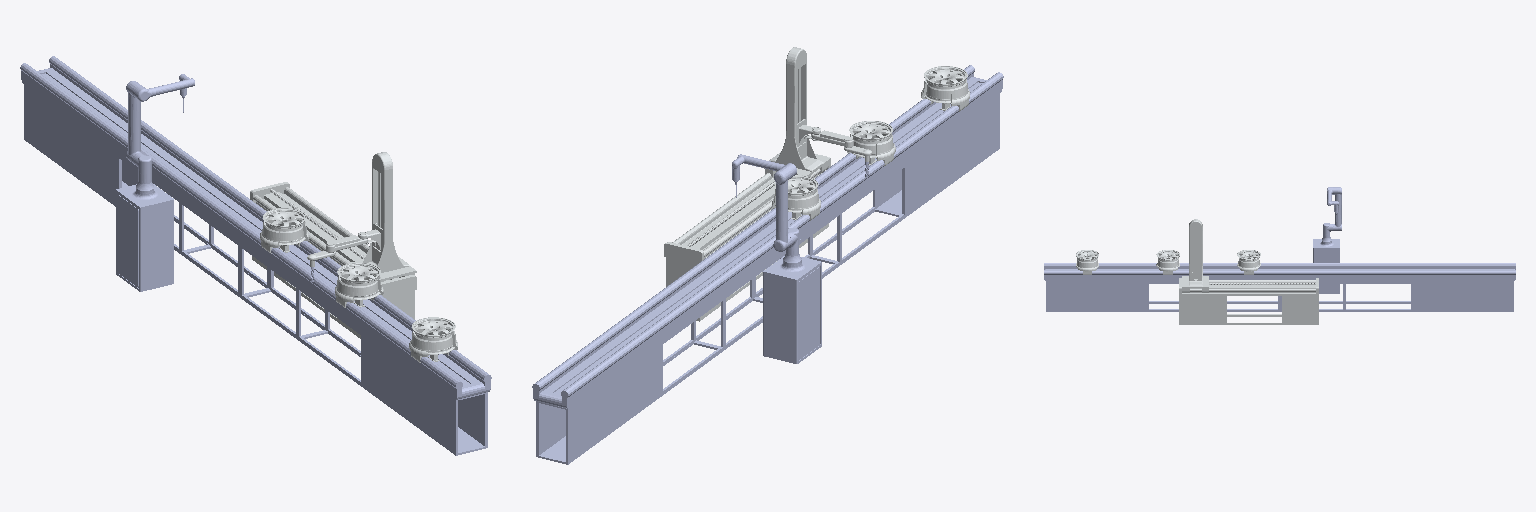
--- Facts derived from the render (not from the file) ---
Views: 3 orthographic renders of the robot side by side, from view 1: azimuth 30°, elevation 25°; view 2: azimuth 150°, elevation 25°; view 3: azimuth 270°, elevation 25°.
Robot: robot_station — 19 links, 18 joints (8 revolute, 5 prismatic, 5 fixed); root link world; default pose: every joint at zero.
Links seen in each view (by area): view 1: conveyor_base_link, fanuc_base_link, base_link, igus_link_1, rim_link_1, rim_link_3, rim_link_2, fanuc_link_2, fanuc_link_3; view 2: conveyor_base_link, fanuc_base_link, base_link, igus_link_1, rim_link_3, rim_link_2, rim_link_1, fanuc_link_2; view 3: conveyor_base_link, base_link, igus_link_1, fanuc_base_link.
Link boxes in pixels (x1=…): conveyor_base_link: x1=20, y1=56, x2=491, y2=455; fanuc_base_link: x1=116, y1=181, x2=173, y2=291; base_link: x1=250, y1=182, x2=416, y2=338; igus_link_1: x1=349, y1=152, x2=416, y2=281; rim_link_1: x1=260, y1=208, x2=308, y2=253; rim_link_3: x1=409, y1=317, x2=457, y2=362; rim_link_2: x1=335, y1=263, x2=383, y2=307; fanuc_link_2: x1=126, y1=81, x2=141, y2=163; fanuc_link_3: x1=133, y1=76, x2=194, y2=101; conveyor_base_link: x1=532, y1=65, x2=1003, y2=464; fanuc_base_link: x1=763, y1=254, x2=821, y2=363; base_link: x1=664, y1=154, x2=830, y2=321; igus_link_1: x1=764, y1=47, x2=830, y2=176; rim_link_3: x1=921, y1=66, x2=969, y2=111; rim_link_2: x1=847, y1=121, x2=895, y2=165; rim_link_1: x1=772, y1=175, x2=820, y2=220; fanuc_link_2: x1=773, y1=167, x2=791, y2=251; conveyor_base_link: x1=1044, y1=263, x2=1515, y2=311; base_link: x1=1179, y1=278, x2=1318, y2=324; igus_link_1: x1=1182, y1=219, x2=1208, y2=292; fanuc_base_link: x1=1313, y1=237, x2=1339, y2=293.
Bounding box of the posed robot: 1.44 × 7 × 1.68 m (x, y, z).
18 mesh visuals loaded from 18 distinct referenced files (18 binary STL).

robot.urdf — robot_station:
<?xml version="1.0" encoding="utf-8" ?>
<!-- This URDF was automatically created by SolidWorks to URDF Exporter! Originally created by Stephen Brawner ([email redacted]) 
     Commit Version: 1.6.0-4-g7f85cfe  Build Version: 1.6.7995.38578
     For more information, please see http://wiki.ros.org/sw_urdf_exporter package://robot_station -->
<robot name="robot_station">
    <link name="world">
    </link>
    <joint name="FixedLinkToWorld" type="fixed">
        <parent link="world"/>
        <child link="base_link"/>
    </joint>
    <link name="base_link">
        <!--<inertial>
            <origin xyz="-0.000356782192564825 1.00041120801292 0.316158264100032" rpy="0 0 0" />
            <mass value="636.570243494494" />
            <inertia ixx="333.952847373746" ixy="0.00886631819492119" ixz="-0.0375757920254293" iyy="16.095679030991" iyz="-0.281796179976567" izz="328.424527454803" />
        </inertial>-->
        <visual>
            <origin xyz="0 0 0" rpy="0 0 0" />
            <geometry>
                <mesh filename="package://robot_station/meshes/base_link.STL" />
            </geometry>
            <material name="">
                <color rgba="0.898039215686275 0.917647058823529 0.929411764705882 1" />
            </material>
        </visual>
        <collision>
            <origin xyz="0 0 0" rpy="0 0 0" />
            <geometry>
                <mesh filename="package://robot_station/meshes/base_link.STL" />
            </geometry>
        </collision>
    </link>
    <link name="fanuc_base_link">
        <inertial>
            <origin xyz="0.000169082888211936 0 0.383648714459086" rpy="0 0 0" />
            <mass value="97.8070588625278" />
            <inertia ixx="5.92235895368374" ixy="1.67237191715929E-16" ixz="6.68329434467964E-05" iyy="5.46236784622898" iyz="8.58528606485017E-17" izz="2.09533750614609" />
        </inertial>
        <visual>
            <origin xyz="0 0 0" rpy="0 0 0" />
            <geometry>
                <mesh filename="package://robot_station/meshes/fanuc_base_link.STL" />
            </geometry>
            <material name="">
                <color rgba="0.792156862745098 0.819607843137255 0.933333333333333 1" />
            </material>
        </visual>
        <collision>
            <origin xyz="0 0 0" rpy="0 0 0" />
            <geometry>
                <mesh filename="package://robot_station/meshes/fanuc_base_link.STL" />
            </geometry>
        </collision>
    </link>
    <joint name="fanuc_base_joint" type="fixed">
        <origin xyz="-1.08369527529852 2.19465113483782 0" rpy="0 0 0" />
        <parent link="base_link" />
        <child link="fanuc_base_link" />
        <axis xyz="0 0 0" />
    </joint>
    <link name="fanuc_link_1">
        <inertial>
            <origin xyz="-2.63059554139744E-08 0.0156064943757653 0.10888280407484" rpy="0 0 0" />
            <mass value="2.40695028399239" />
            <inertia ixx="0.0110961559173426" ixy="-3.09808436574582E-09" ixz="1.57497353428753E-09" iyy="0.00928441912751741" iyz="-0.00132265032616368" izz="0.00556032046198518" />
        </inertial>
        <visual>
            <origin xyz="0 0 0" rpy="0 0 0" />
            <geometry>
                <mesh filename="package://robot_station/meshes/fanuc_link_1.STL" />
            </geometry>
            <material name="">
                <color rgba="0.792156862745098 0.819607843137255 0.933333333333333 1" />
            </material>
        </visual>
        <collision>
            <origin xyz="0 0 0" rpy="0 0 0" />
            <geometry>
                <mesh filename="package://robot_station/meshes/fanuc_link_1.STL" />
            </geometry>
        </collision>
    </link>
    <joint name="fanuc_joint_1" type="revolute">
        <origin xyz="0 0 0.875" rpy="0 0 0" />
        <parent link="fanuc_base_link" />
        <child link="fanuc_link_1" />
        <axis xyz="0 0 1" />
        <limit lower="-3.14" upper="3.14" effort="30" velocity="5" />
        <dynamics damping="1" friction="0.3" />
    </joint>
    <link name="fanuc_link_2">
        <inertial>
            <origin xyz="1.06587264325775E-06 -0.299118880733382 0.0672828882962292" rpy="0 0 0" />
            <mass value="6.33754550396934" />
            <inertia ixx="0.30540090334403" ixy="1.01759238610271E-07" ixz="-3.94988933316654E-09" iyy="0.00998243581493844" iyz="-0.000298340857520885" izz="0.304003738022916" />
        </inertial>
        <visual>
            <origin xyz="0 0 0" rpy="0 0 0" />
            <geometry>
                <mesh filename="package://robot_station/meshes/fanuc_link_2.STL" />
            </geometry>
            <material name="">
                <color rgba="0.792156862745098 0.819607843137255 0.933333333333333 1" />
            </material>
        </visual>
        <collision>
            <origin xyz="0 0 0" rpy="0 0 0" />
            <geometry>
                <mesh filename="package://robot_station/meshes/fanuc_link_2.STL" />
            </geometry>
        </collision>
    </link>
    <joint name="fanuc_joint_2" type="revolute">
        <origin xyz="0 0.1 0.145" rpy="-1.5707963267949 0 0" />
        <parent link="fanuc_link_1" />
        <child link="fanuc_link_2" />
        <axis xyz="0 0 1" />
        <limit lower="-3.14" upper="3.14" effort="30" velocity="5" />
        <dynamics damping="1" friction="0.3" />
    </joint>
    <link name="fanuc_link_3">
        <inertial>
            <origin xyz="0.17728326847111 2.79403544412027E-07 -0.0528316517988267" rpy="0 0 0" />
            <mass value="2.49581709137831" />
            <inertia ixx="0.00247052610771185" ixy="-5.78496815489382E-08" ixz="-0.000449504431272903" iyy="0.0179816396092495" iyz="-5.48956960543343E-08" izz="0.0177106962681387" />
        </inertial>
        <visual>
            <origin xyz="0 0 0" rpy="0 0 0" />
            <geometry>
                <mesh filename="package://robot_station/meshes/fanuc_link_3.STL" />
            </geometry>
            <material name="">
                <color rgba="0.792156862745098 0.819607843137255 0.933333333333333 1" />
            </material>
        </visual>
        <collision>
            <origin xyz="0 0 0" rpy="0 0 0" />
            <geometry>
                <mesh filename="package://robot_station/meshes/fanuc_link_3.STL" />
            </geometry>
        </collision>
    </link>
    <joint name="fanuc_joint_3" type="revolute">
        <origin xyz="0 -0.6 0" rpy="0 0 0" />
        <parent link="fanuc_link_2" />
        <child link="fanuc_link_3" />
        <axis xyz="0 0 -1" />
        <limit lower="-3.14" upper="3.14" effort="30" velocity="5" />
        <dynamics damping="1" friction="0.3" />
    </joint>
    <link name="fanuc_link_4">
        <inertial>
            <origin xyz="1.84762835031549E-08 0.0193331248667047 0.0339158242493295" rpy="0 0 0" />
            <mass value="0.314010019704223" />
            <inertia ixx="0.000329115741200632" ixy="2.77060224939971E-10" ixz="4.53935019208746E-10" iyy="0.000170116213329556" iyz="-8.31864792928003E-06" izz="0.000302831187717306" />
        </inertial>
        <visual>
            <origin xyz="0 0 0" rpy="0 0 0" />
            <geometry>
                <mesh filename="package://robot_station/meshes/fanuc_link_4.STL" />
            </geometry>
            <material name="">
                <color rgba="0.792156862745098 0.819607843137255 0.933333333333333 1" />
            </material>
        </visual>
        <collision>
            <origin xyz="0 0 0" rpy="0 0 0" />
            <geometry>
                <mesh filename="package://robot_station/meshes/fanuc_link_4.STL" />
            </geometry>
        </collision>
    </link>
    <joint name="fanuc_joint_4" type="revolute">
        <origin xyz="0.44 0 0.0100000000000011" rpy="0 0 0" />
        <parent link="fanuc_link_3" />
        <child link="fanuc_link_4" />
        <axis xyz="0 0 1" />
        <limit lower="-3.14" upper="3.14" effort="30" velocity="5" />
        <dynamics damping="1" friction="0.3" />
    </joint>
    <link name="fanuc_link_5">
        <inertial>
            <origin xyz="1.11022302462516E-16 -1.11022302462516E-16 -0.02" rpy="0 0 0" />
            <mass value="0.113097335529233" />
            <inertia ixx="4.05265452313084E-05" ixy="-2.63310734584192E-36" ixz="-3.34359903136556E-22" iyy="4.05265452313084E-05" iyz="-7.42167075397559E-21" izz="5.08938009881547E-05" />
        </inertial>
        <visual>
            <origin xyz="0 0 0" rpy="0 0 0" />
            <geometry>
                <mesh filename="package://robot_station/meshes/fanuc_link_5.STL" />
            </geometry>
            <material name="">
                <color rgba="0.792156862745098 0.819607843137255 0.933333333333333 1" />
            </material>
        </visual>
        <collision>
            <origin xyz="0 0 0" rpy="0 0 0" />
            <geometry>
                <mesh filename="package://robot_station/meshes/fanuc_link_5.STL" />
            </geometry>
        </collision>
    </link>
    <joint name="fanuc_joint_5" type="revolute">
        <origin xyz="0 0.0700000000000001 0.0350000000000002" rpy="1.5707963267949 0 0" />
        <parent link="fanuc_link_4" />
        <child link="fanuc_link_5" />
        <axis xyz="0 0 -1" />
        <limit lower="-3.14" upper="3.14" effort="30" velocity="5" />
        <dynamics damping="1" friction="0.3" />
    </joint>
    <link name="fanuc_tcp_link">
        <inertial>
            <origin xyz="-1.11022302462516E-16 0 -0.167252687991617" rpy="0 0 0" />
            <mass value="0.122101489927734" />
            <inertia ixx="0.000125137029104926" ixy="-5.73608538831083E-21" ixz="-1.2102058455917E-20" iyy="0.000125137029104926" iyz="5.85739039373751E-20" izz="4.43062055973005E-05" />
        </inertial>
        <visual>
            <origin xyz="0 0 0" rpy="0 0 0" />
            <geometry>
                <mesh filename="package://robot_station/meshes/fanuc_tcp_link.STL" />
            </geometry>
            <material name="">
                <color rgba="0.792156862745098 0.819607843137255 0.933333333333333 1" />
            </material>
        </visual>
        <collision>
            <origin xyz="0 0 0" rpy="0 0 0" />
            <geometry>
                <mesh filename="package://robot_station/meshes/fanuc_tcp_link.STL" />
            </geometry>
        </collision>
    </link>
    <joint name="fanuc_tcp" type="fixed">
        <origin xyz="0 0 -0.23503" rpy="3.1416 0 -3.1416" />
        <parent link="fanuc_link_5" />
        <child link="fanuc_tcp_link" />
        <axis xyz="0 0 0" />
    </joint>
    <link name="igus_link_1">
        <inertial>
            <origin xyz="0.00225137736388654 -0.112868107734947 0.000267746509680311" rpy="0 0 0" />
            <mass value="23.2409337580365" />
            <inertia ixx="1.3198392135696" ixy="0.0112033429785408" ixz="-0.000235229419864589" iyy="0.524801714753001" iyz="1.83236120771664E-05" izz="1.32896487553157" />
        </inertial>
        <visual>
            <origin xyz="0 0 0" rpy="0 0 0" />
            <geometry>
                <mesh filename="package://robot_station/meshes/igus_link_1.STL" />
            </geometry>
            <material name="">
                <color rgba="0.898039215686275 0.917647058823529 0.929411764705882 1" />
            </material>
        </visual>
        <collision>
            <origin xyz="0 0 0" rpy="0 0 0" />
            <geometry>
                <mesh filename="package://robot_station/meshes/igus_link_1.STL" />
            </geometry>
        </collision>
    </link>
    <joint name="igus_joint_1" type="prismatic">
        <origin xyz="0 0.25 0.6399949994999" rpy="-1.5707963267949 0 0" />
        <parent link="base_link" />
        <child link="igus_link_1" />
        <axis xyz="0 0 1" />
        <limit lower="0" upper="1.58" effort="30" velocity="5" />
        <dynamics damping="10" friction="2" />
    </joint>
    <link name="igus_link_2">
        <inertial>
            <origin xyz="0.0645447810752203 1.54356498693886E-08 0.0254765703025249" rpy="0 0 0" />
            <mass value="2.1853711703453" />
            <inertia ixx="0.00653349660925282" ixy="-1.02567576389086E-09" ixz="-0.00134367034704273" iyy="0.00891140481161622" iyz="3.25780733272975E-10" izz="0.00686377414452697" />
        </inertial>
        <visual>
            <origin xyz="0 0 0" rpy="0 0 0" />
            <geometry>
                <mesh filename="package://robot_station/meshes/igus_link_2.STL" />
            </geometry>
            <material name="">
                <color rgba="0.898039215686275 0.917647058823529 0.929411764705882 1" />
            </material>
        </visual>
        <collision>
            <origin xyz="0 0 0" rpy="0 0 0" />
            <geometry>
                <mesh filename="package://robot_station/meshes/igus_link_2.STL" />
            </geometry>
        </collision>
    </link>
    <joint name="igus_joint_2" type="prismatic">
        <origin xyz="-0.0329999999999999 -0.265 0" rpy="-1.5707963267949 0 3.14159265358979" />
        <parent link="igus_link_1" />
        <child link="igus_link_2" />
        <axis xyz="0 0 1" />
        <limit lower="0" upper="0.47" effort="30" velocity="5" />
        <dynamics damping="10" friction="2" />
    </joint>
    <link name="igus_link_3">
        <inertial>
            <origin xyz="3.54830356430469E-07 0.169256452833365 -0.0566033862412991" rpy="0 0 0" />
            <mass value="3.48880009338367" />
            <inertia ixx="0.0413943358951059" ixy="4.27505728510597E-08" ixz="-3.33131356621195E-08" iyy="0.00261997668960604" iyz="-0.000800464183175295" izz="0.0421873194928277" />
        </inertial>
        <visual>
            <origin xyz="0 0 0" rpy="0 0 0" />
            <geometry>
                <mesh filename="package://robot_station/meshes/igus_link_3.STL" />
            </geometry>
            <material name="">
                <color rgba="0.898039215686275 0.917647058823529 0.929411764705882 1" />
            </material>
        </visual>
        <collision>
            <origin xyz="0 0 0" rpy="0 0 0" />
            <geometry>
                <mesh filename="package://robot_station/meshes/igus_link_3.STL" />
            </geometry>
        </collision>
    </link>
    <joint name="igus_joint_3" type="revolute">
        <origin xyz="0.15 0 0.073" rpy="0 0 -1.5707963267949" />
        <parent link="igus_link_2" />
        <child link="igus_link_3" />
        <axis xyz="0 0 -1" />
        <limit lower="-2.6" upper="2.6" effort="30" velocity="5" />
        <dynamics damping="1" friction="0.3" />
    </joint>
    <link name="igus_link_4">
        <inertial>
            <origin xyz="-7.43769490441082E-11 0.0845322630409551 0.0173248307426792" rpy="0 0 0" />
            <mass value="1.3957668907099" />
            <inertia ixx="0.00635958656880693" ixy="5.32372633492493E-12" ixz="1.64081104076097E-12" iyy="0.000775912136530914" iyz="-8.21779946052231E-05" izz="0.00691571714765176" />
        </inertial>
        <visual>
            <origin xyz="0 0 0" rpy="0 0 0" />
            <geometry>
                <mesh filename="package://robot_station/meshes/igus_link_4.STL" />
            </geometry>
            <material name="">
                <color rgba="0.898039215686275 0.917647058823529 0.929411764705882 1" />
            </material>
        </visual>
        <collision>
            <origin xyz="0 0 0" rpy="0 0 0" />
            <geometry>
                <mesh filename="package://robot_station/meshes/igus_link_4.STL" />
            </geometry>
        </collision>
    </link>
    <joint name="igus_joint_4" type="revolute">
        <origin xyz="0 0.3 -0.12" rpy="0 0 0" />
        <parent link="igus_link_3" />
        <child link="igus_link_4" />
        <axis xyz="0 0 -1" />
        <limit lower="-2.6" upper="2.6" effort="30" velocity="5" />
        <dynamics damping="1" friction="0.3" />
    </joint>
    <link name="igus_link_5">
        <inertial>
            <origin xyz="-6.66133814775094E-16 -1.11022302462516E-16 0.04251301631378" rpy="0 0 0" />
            <mass value="0.119924801763647" />
            <inertia ixx="4.35856026037314E-05" ixy="-1.19027154243318E-22" ixz="-5.76049351885102E-22" iyy="4.35856026037314E-05" iyz="1.65147717778908E-22" izz="3.12984122546154E-05" />
        </inertial>
        <visual>
            <origin xyz="0 0 0" rpy="0 0 0" />
            <geometry>
                <mesh filename="package://robot_station/meshes/igus_link_5.STL" />
            </geometry>
            <material name="">
                <color rgba="0.898039215686275 0.917647058823529 0.929411764705882 1" />
            </material>
        </visual>
        <collision>
            <origin xyz="0 0 0" rpy="0 0 0" />
            <geometry>
                <mesh filename="package://robot_station/meshes/igus_link_5.STL" />
            </geometry>
        </collision>
    </link>
    <joint name="igus_joint_5" type="revolute">
        <origin xyz="0 0.17 -0.0579999999999999" rpy="0 0 0" />
        <parent link="igus_link_4" />
        <child link="igus_link_5" />
        <axis xyz="0 0 1" />
        <limit lower="-2.6" upper="2.6" effort="30" velocity="5" />
        <dynamics damping="1" friction="0.3" />
    </joint>
    <link name="igus_tcp_link">
        <inertial>
            <origin xyz="1.11022302462516E-15 -2.22044604925031E-16 -0.10166425759859" rpy="0 0 0" />
            <mass value="0.105374291184522" />
            <inertia ixx="0.000299483023425774" ixy="3.29960407079362E-08" ixz="-9.15749901441764E-18" iyy="0.000299567601251221" iyz="3.54086039196301E-19" izz="1.09548565887698E-05" />
        </inertial>
        <visual>
            <origin xyz="0 0 0" rpy="0 0 0" />
            <geometry>
                <mesh filename="package://robot_station/meshes/igus_tcp_link.STL" />
            </geometry>
            <material name="">
                <color rgba="0.792156862745098 0.819607843137255 0.933333333333333 1" />
            </material>
        </visual>
        <collision>
            <origin xyz="0 0 0" rpy="0 0 0" />
            <geometry>
                <mesh filename="package://robot_station/meshes/igus_tcp_link.STL" />
            </geometry>
        </collision>
    </link>
    <joint name="igus_tcp" type="fixed">
        <origin xyz="0 0 -0.14" rpy="3.1416 0 0" />
        <parent link="igus_link_5" />
        <child link="igus_tcp_link" />
        <axis xyz="0 0 0" />
    </joint>
    <link name="conveyor_base_link">
        <inertial>
            <origin xyz="0.000205458532829161 -0.233664523976159 1.66036818611012" rpy="0 0 0" />
            <mass value="361.319412074189" />
            <inertia ixx="1701.89099748382" ixy="0.0329547825602022" ixz="0.000131101954223107" iyy="1694.83001019083" iyz="0.0341512066917525" izz="15.8947693555848" />
        </inertial>
        <visual>
            <origin xyz="0 0 0" rpy="0 0 0" />
            <geometry>
                <mesh filename="package://robot_station/meshes/conveyor_base_link.STL" />
            </geometry>
            <material name="">
                <color rgba="0.792156862745098 0.819607843137255 0.933333333333333 1" />
            </material>
        </visual>
        <collision>
            <origin xyz="0 0 0" rpy="0 0 0" />
            <geometry>
                <mesh filename="package://robot_station/meshes/conveyor_base_link.STL" />
            </geometry>
        </collision>
    </link>
    <joint name="conveyor_base_joint" type="fixed">
        <origin xyz="-0.454993826214242 -0.160006315700161 0.699558083804378" rpy="1.5707963267949 0 -3.14159265358979" />
        <parent link="base_link" />
        <child link="conveyor_base_link" />
        <axis xyz="0 0 0" />
    </joint>
    <link name="rim_link_1">
        <inertial>
            <origin xyz="-7.03428214310353E-06 0.0389349348531741 -7.20322989544719E-06" rpy="0 0 0" />
            <mass value="5.19028572574299" />
            <inertia ixx="0.0410441243862862" ixy="1.43540662939147E-06" ixz="6.3148605362399E-06" iyy="0.104690499200996" iyz="1.4723398094777E-06" izz="0.0895179437175309" />
        </inertial>
        <visual>
            <origin xyz="0 0 0" rpy="0 0 0" />
            <geometry>
                <mesh filename="package://robot_station/meshes/rim_link_1.STL" />
            </geometry>
            <material name="">
                <color rgba="0.898039215686275 0.917647058823529 0.929411764705882 1" />
            </material>
        </visual>
        <collision>
            <origin xyz="0 0 0" rpy="0 0 0" />
            <geometry>
                <mesh filename="package://robot_station/meshes/rim_link_1.STL" />
            </geometry>
        </collision>
    </link>
    <joint name="rim_joint_1" type="prismatic">
        <origin xyz="0 0 1.2" rpy="0 0 0" />
        <parent link="conveyor_base_link" />
        <child link="rim_link_1" />
        <axis xyz="0 0 1" />
        <limit lower="0" upper="3.5" effort="30" velocity="5" />
        <dynamics damping="10" friction="2" />
    </joint>
    <link name="rim_link_2">
        <inertial>
            <origin xyz="-7.03422069059378E-06 0.0389349337651749 -7.20294907230468E-06" rpy="0 0 0" />
            <mass value="5.19028566472158" />
            <inertia ixx="0.0410441242165912" ixy="1.43539106367649E-06" ixz="6.31484982772229E-06" iyy="0.104690498748233" iyz="1.4723236302381E-06" izz="0.0895179434115382" />
        </inertial>
        <visual>
            <origin xyz="0 0 0" rpy="0 0 0" />
            <geometry>
                <mesh filename="package://robot_station/meshes/rim_link_2.STL" />
            </geometry>
            <material name="">
                <color rgba="0.898039215686275 0.917647058823529 0.929411764705882 1" />
            </material>
        </visual>
        <collision>
            <origin xyz="0 0 0" rpy="0 0 0" />
            <geometry>
                <mesh filename="package://robot_station/meshes/rim_link_2.STL" />
            </geometry>
        </collision>
    </link>
    <joint name="rim_joint_2" type="prismatic">
        <origin xyz="0 0 0" rpy="0 0 0" />
        <parent link="conveyor_base_link" />
        <child link="rim_link_2" />
        <axis xyz="0 0 1" />
        <limit lower="0" upper="3.5" effort="30" velocity="5" />
        <dynamics damping="10" friction="2" />
    </joint>
    <link name="rim_link_3">
        <inertial>
            <origin xyz="-7.03392032791461E-06 0.0408393473891693 -7.20272708365499E-06" rpy="0 0 0" />
            <mass value="5.19028565852553" />
            <inertia ixx="0.0410441241044068" ixy="1.43536365244892E-06" ixz="6.31480637847164E-06" iyy="0.104690498634122" iyz="1.47229932975299E-06" izz="0.0895179434048661" />
        </inertial>
        <visual>
            <origin xyz="0 0 0" rpy="0 0 0" />
            <geometry>
                <mesh filename="package://robot_station/meshes/rim_link_3.STL" />
            </geometry>
            <material name="">
                <color rgba="0.898039215686275 0.917647058823529 0.929411764705882 1" />
            </material>
        </visual>
        <collision>
            <origin xyz="0 0 0" rpy="0 0 0" />
            <geometry>
                <mesh filename="package://robot_station/meshes/rim_link_3.STL" />
            </geometry>
        </collision>
    </link>
    <joint name="rim_joint_3" type="prismatic">
        <origin xyz="0 -0.0019044 -1.2" rpy="0 0 0" />
        <parent link="conveyor_base_link" />
        <child link="rim_link_3" />
        <axis xyz="0 0 1" />
        <limit lower="0" upper="3.5" effort="30" velocity="5" />
        <dynamics damping="10" friction="2" />
    </joint>
    <!--<link name="hmi_link">
        <inertial>
            <origin xyz="-0.0041652262336801 0.000244991557230678 0.754188036876293" rpy="0 0 0" />
            <mass value="13.7245183352948" />
            <inertia ixx="2.53951208402466" ixy="9.19547727236434E-05" ixz="0.0325319812828774" iyy="2.49398835066015" iyz="-0.000870701051642594" izz="0.0784248473297592" />
        </inertial>
        <visual>
            <origin xyz="0 0 0" rpy="0 0 0" />
            <geometry>
                <mesh filename="package://robot_station/meshes/hmi_link.STL" />
            </geometry>
            <material name="">
                <color rgba="0.792156862745098 0.819607843137255 0.933333333333333 1" />
            </material>
        </visual>
        <collision>
            <origin xyz="0 0 0" rpy="0 0 0" />
            <geometry>
                <mesh filename="package://robot_station/meshes/hmi_link.STL" />
            </geometry>
        </collision>
    </link>
    <joint name="hmi_link" type="fixed">
        <origin xyz="0.845 3.33 0" rpy="0 0 0" />
        <parent link="base_link" />
        <child link="hmi_link" />
        <axis xyz="0 0 0" />
    </joint>
    <link name="fence_link">
        <inertial>
            <origin xyz="-6.12048966286416E-07 -2.21500879852693 0.837575521349999" rpy="0 0 0" />
            <mass value="12.7155389476695" />
            <inertia ixx="7.61071679293418" ixy="5.73337069646924E-06" ixz="5.39039337816125E-06" iyy="3.80763443329767" iyz="-2.4064595485788E-05" izz="3.80390317753827" />
        </inertial>
        <visual>
            <origin xyz="0 0 0" rpy="0 0 0" />
            <geometry>
                <mesh filename="package://robot_station/meshes/fence_link.STL" />
            </geometry>
            <material name="">
                <color rgba="0.792156862745098 0.819607843137255 0.933333333333333 1" />
            </material>
        </visual>
        <collision>
            <origin xyz="0 0 0" rpy="0 0 0" />
            <geometry>
                <mesh filename="package://robot_station/meshes/fence_link.STL" />
            </geometry>
        </collision>
    </link>
    <joint name="fence_link" type="fixed">
        <origin xyz="0.545 3.205 0" rpy="0 0 0" />
        <parent link="base_link" />
        <child link="fence_link" />
        <axis xyz="0 0 0" />
    </joint>-->
    <transmission name="trans_fanuc_joint_1">
        <type>transmission_interface/SimpleTransmission</type>
        <joint name="fanuc_joint_1">
            <hardwareInterface>hardware_interface/PositionJointInterface</hardwareInterface>
        </joint>
        <actuator name="fanuc_joint_1_motor">
            <hardwareInterface>hardware_interface/PositionJointInterface</hardwareInterface>
            <mechanicalReduction>1</mechanicalReduction>
        </actuator>
    </transmission>
    <transmission name="trans_fanuc_joint_2">
        <type>transmission_interface/SimpleTransmission</type>
        <joint name="fanuc_joint_2">
            <hardwareInterface>hardware_interface/PositionJointInterface</hardwareInterface>
        </joint>
        <actuator name="fanuc_joint_2_motor">
            <hardwareInterface>hardware_interface/PositionJointInterface</hardwareInterface>
            <mechanicalReduction>1</mechanicalReduction>
        </actuator>
    </transmission>
    <transmission name="trans_fanuc_joint_3">
        <type>transmission_interface/SimpleTransmission</type>
        <joint name="fanuc_joint_3">
            <hardwareInterface>hardware_interface/PositionJointInterface</hardwareInterface>
        </joint>
        <actuator name="fanuc_joint_3_motor">
            <hardwareInterface>hardware_interface/PositionJointInterface</hardwareInterface>
            <mechanicalReduction>1</mechanicalReduction>
        </actuator>
    </transmission>
    <transmission name="trans_fanuc_joint_4">
        <type>transmission_interface/SimpleTransmission</type>
        <joint name="fanuc_joint_4">
            <hardwareInterface>hardware_interface/PositionJointInterface</hardwareInterface>
        </joint>
        <actuator name="fanuc_joint_4_motor">
            <hardwareInterface>hardware_interface/PositionJointInterface</hardwareInterface>
            <mechanicalReduction>1</mechanicalReduction>
        </actuator>
    </transmission>
    <transmission name="trans_fanuc_joint_5">
        <type>transmission_interface/SimpleTransmission</type>
        <joint name="fanuc_joint_5">
            <hardwareInterface>hardware_interface/PositionJointInterface</hardwareInterface>
        </joint>
        <actuator name="fanuc_joint_5_motor">
            <hardwareInterface>hardware_interface/PositionJointInterface</hardwareInterface>
            <mechanicalReduction>1</mechanicalReduction>
        </actuator>
    </transmission>
    <transmission name="trans_igus_joint_1">
        <type>transmission_interface/SimpleTransmission</type>
        <joint name="igus_joint_1">
            <hardwareInterface>hardware_interface/PositionJointInterface</hardwareInterface>
        </joint>
        <actuator name="igus_joint_1_motor">
            <hardwareInterface>hardware_interface/PositionJointInterface</hardwareInterface>
            <mechanicalReduction>1</mechanicalReduction>
        </actuator>
    </transmission>
    <transmission name="trans_igus_joint_2">
        <type>transmission_interface/SimpleTransmission</type>
        <joint name="igus_joint_2">
            <hardwareInterface>hardware_interface/PositionJointInterface</hardwareInterface>
        </joint>
        <actuator name="igus_joint_2_motor">
            <hardwareInterface>hardware_interface/PositionJointInterface</hardwareInterface>
            <mechanicalReduction>1</mechanicalReduction>
        </actuator>
    </transmission>
    <transmission name="trans_igus_joint_3">
        <type>transmission_interface/SimpleTransmission</type>
        <joint name="igus_joint_3">
            <hardwareInterface>hardware_interface/PositionJointInterface</hardwareInterface>
        </joint>
        <actuator name="igus_joint_3_motor">
            <hardwareInterface>hardware_interface/PositionJointInterface</hardwareInterface>
            <mechanicalReduction>1</mechanicalReduction>
        </actuator>
    </transmission>
    <transmission name="trans_igus_joint_4">
        <type>transmission_interface/SimpleTransmission</type>
        <joint name="igus_joint_4">
            <hardwareInterface>hardware_interface/PositionJointInterface</hardwareInterface>
        </joint>
        <actuator name="igus_joint_4_motor">
            <hardwareInterface>hardware_interface/PositionJointInterface</hardwareInterface>
            <mechanicalReduction>1</mechanicalReduction>
        </actuator>
    </transmission>
    <transmission name="trans_igus_joint_5">
        <type>transmission_interface/SimpleTransmission</type>
        <joint name="igus_joint_5">
            <hardwareInterface>hardware_interface/PositionJointInterface</hardwareInterface>
        </joint>
        <actuator name="igus_joint_5_motor">
            <hardwareInterface>hardware_interface/PositionJointInterface</hardwareInterface>
            <mechanicalReduction>1</mechanicalReduction>
        </actuator>
    </transmission>
    <transmission name="trans_rim_joint_1">
        <type>transmission_interface/SimpleTransmission</type>
        <joint name="rim_joint_1">
            <hardwareInterface>hardware_interface/PositionJointInterface</hardwareInterface>
        </joint>
        <actuator name="rim_joint_1_motor">
            <hardwareInterface>hardware_interface/PositionJointInterface</hardwareInterface>
            <mechanicalReduction>1</mechanicalReduction>
        </actuator>
    </transmission>
    <transmission name="trans_rim_joint_2">
        <type>transmission_interface/SimpleTransmission</type>
        <joint name="rim_joint_2">
            <hardwareInterface>hardware_interface/PositionJointInterface</hardwareInterface>
        </joint>
        <actuator name="rim_joint_2_motor">
            <hardwareInterface>hardware_interface/PositionJointInterface</hardwareInterface>
            <mechanicalReduction>1</mechanicalReduction>
        </actuator>
    </transmission>
    <transmission name="trans_rim_joint_3">
        <type>transmission_interface/SimpleTransmission</type>
        <joint name="rim_joint_3">
            <hardwareInterface>hardware_interface/PositionJointInterface</hardwareInterface>
        </joint>
        <actuator name="rim_joint_3_motor">
            <hardwareInterface>hardware_interface/PositionJointInterface</hardwareInterface>
            <mechanicalReduction>1</mechanicalReduction>
        </actuator>
    </transmission>
    <gazebo>
        <plugin name="gazebo_ros_control" filename="libgazebo_ros_control.so">
            <robotNamespace>/</robotNamespace>
        </plugin>
    </gazebo>
    <gazebo>
      <plugin name="joint_state_publisher" filename="libgazebo_ros_joint_state_publisher.so">
      <jointName> fanuc_joint_1, fanuc_joint_2, fanuc_joint_3, fanuc_joint_4, fanuc_joint_5, igus_joint_1, igus_joint_2, igus_joint_3, igus_joint_4, igus_joint_5, rim_joint_1, rim_joint_2, rim_joint_3 </jointName>
      </plugin>
    </gazebo>
</robot>
